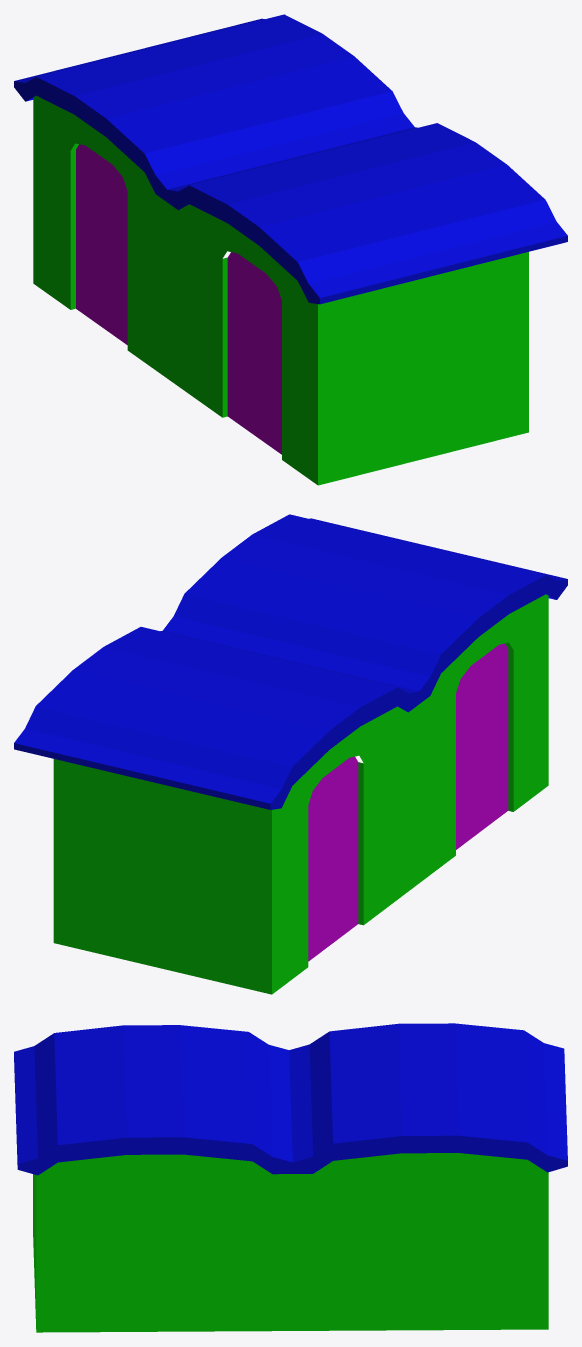
The model's file is baños.fbx.
3 views of the same model, one above another, from view 1: azimuth 30°, elevation 25°; view 2: azimuth 150°, elevation 25°; view 3: azimuth 270°, elevation 25° (orthographic). The views are drawn at different scales.
Parts seen in each view (by area): view 1: EDIFICIO_BAÑO; view 2: EDIFICIO_BAÑO; view 3: EDIFICIO_BAÑO.
Boxes of the visible parts, x1=… form: EDIFICIO_BAÑO: x1=14, y1=14, x2=567, y2=485; EDIFICIO_BAÑO: x1=14, y1=514, x2=567, y2=994; EDIFICIO_BAÑO: x1=14, y1=1023, x2=567, y2=1332.
Bounding box in the file's own units: 7.22 × 6.04 × 14.64.
